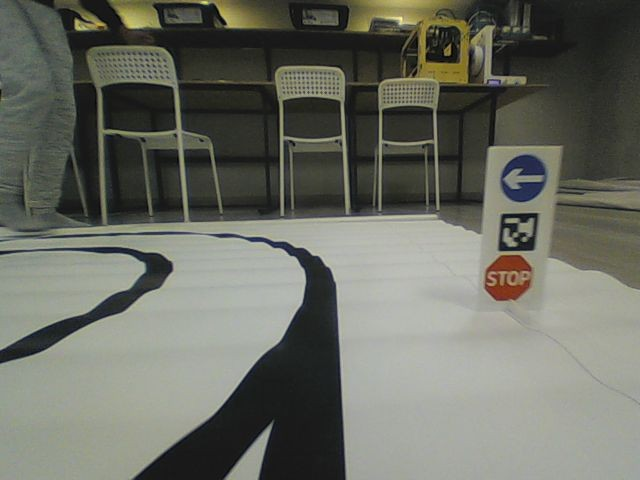Stop: (483, 253, 533, 302)
